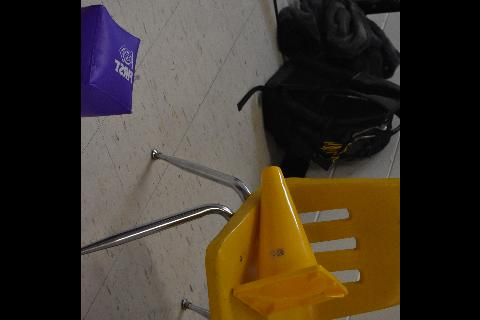cone: (231, 165, 349, 317)
cube: (80, 4, 139, 118)
